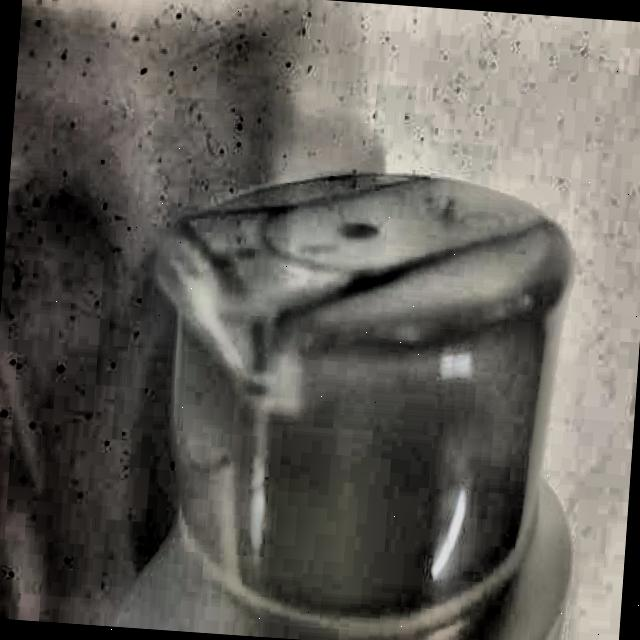plastic: (96, 154, 588, 640)
